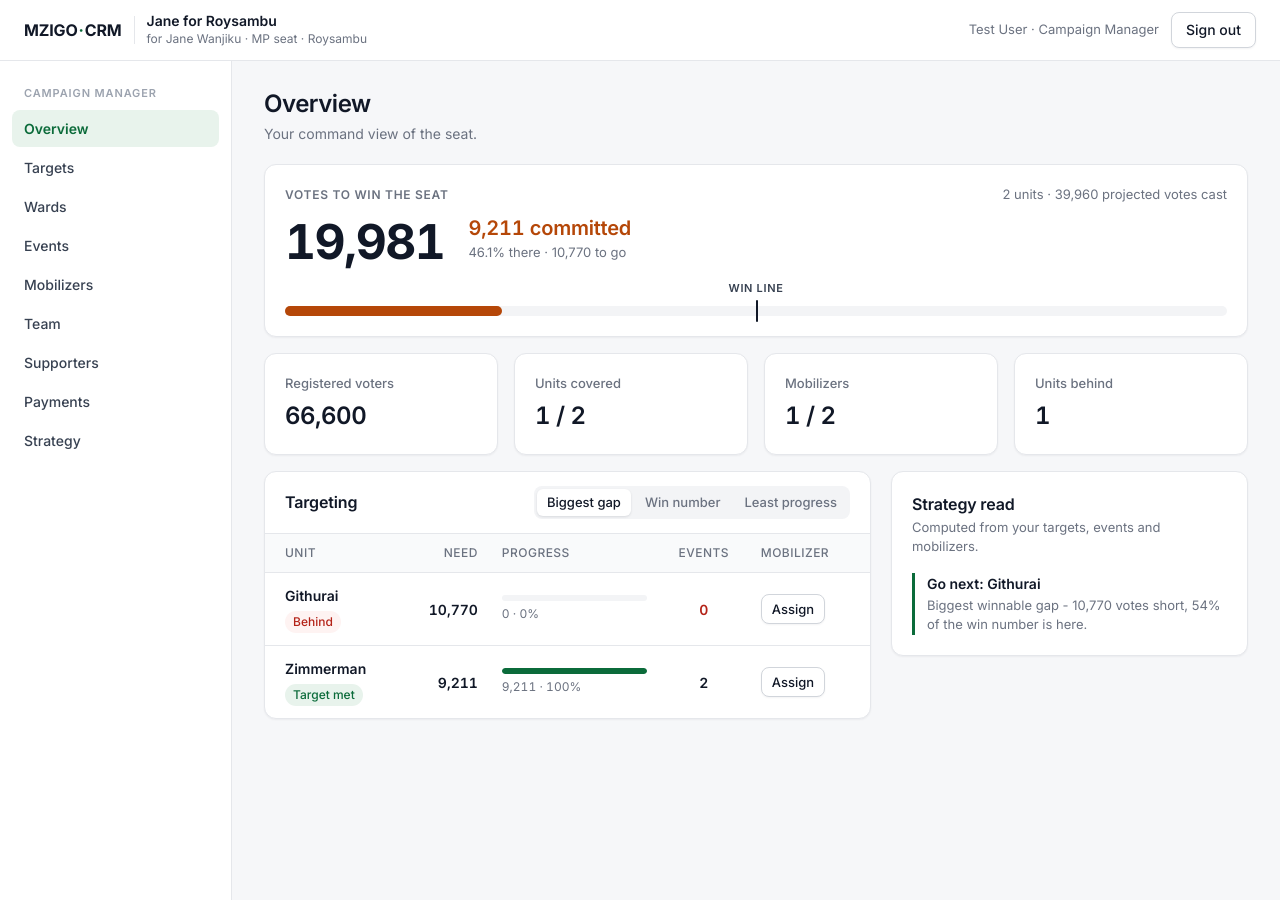
Scenario: the turnout slider › saves only the last number when let go, and says it saved
Expected: the button "Overview" is shown, [12,110,219,147]
Click the button "Targets": (116, 167) [12,149,219,186]
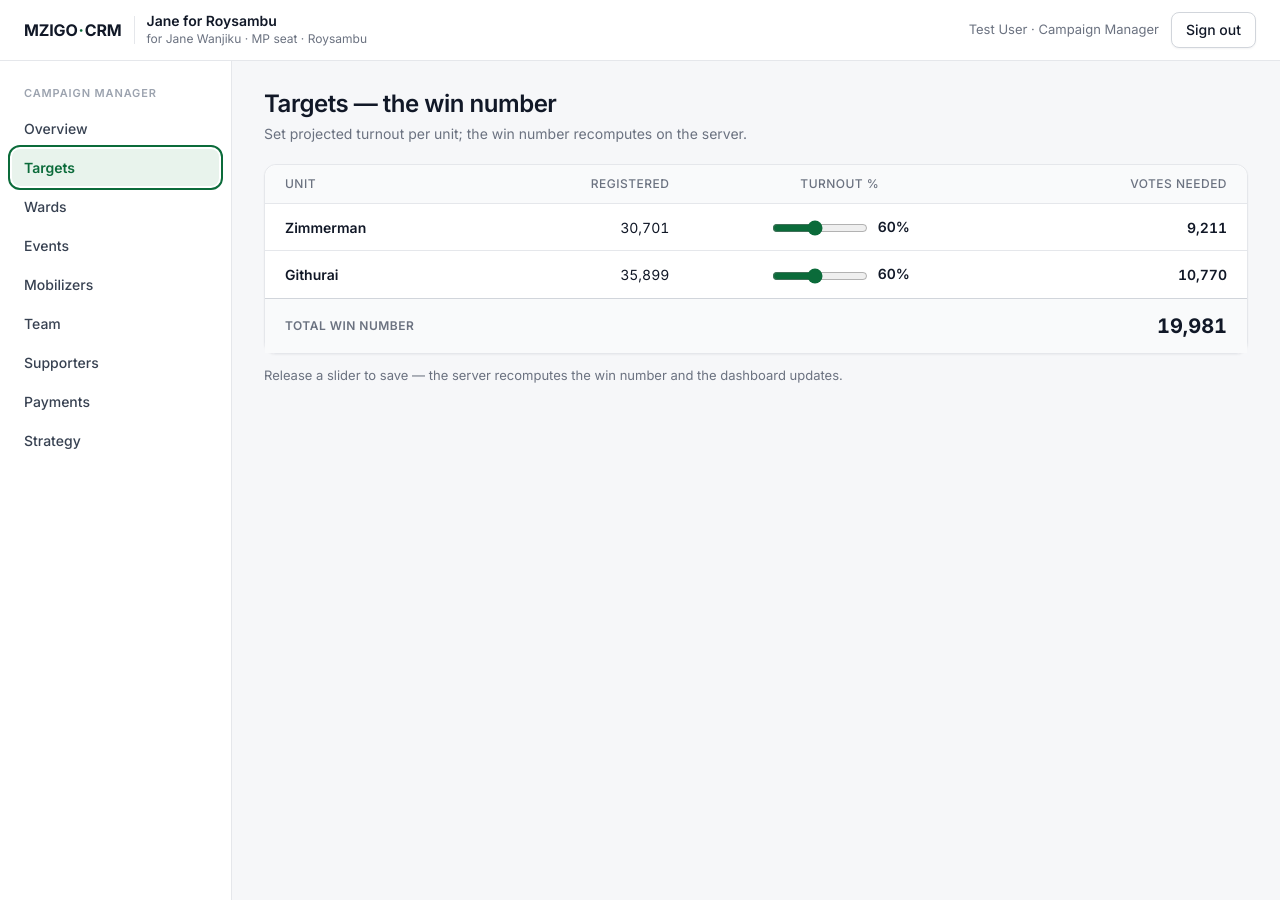
Expected: the text "Targets — the win number" is shown, [264,89,556,118]
Set the slider named "Turnout for Zimmerman" to "65": (824, 228) [772,220,868,236]
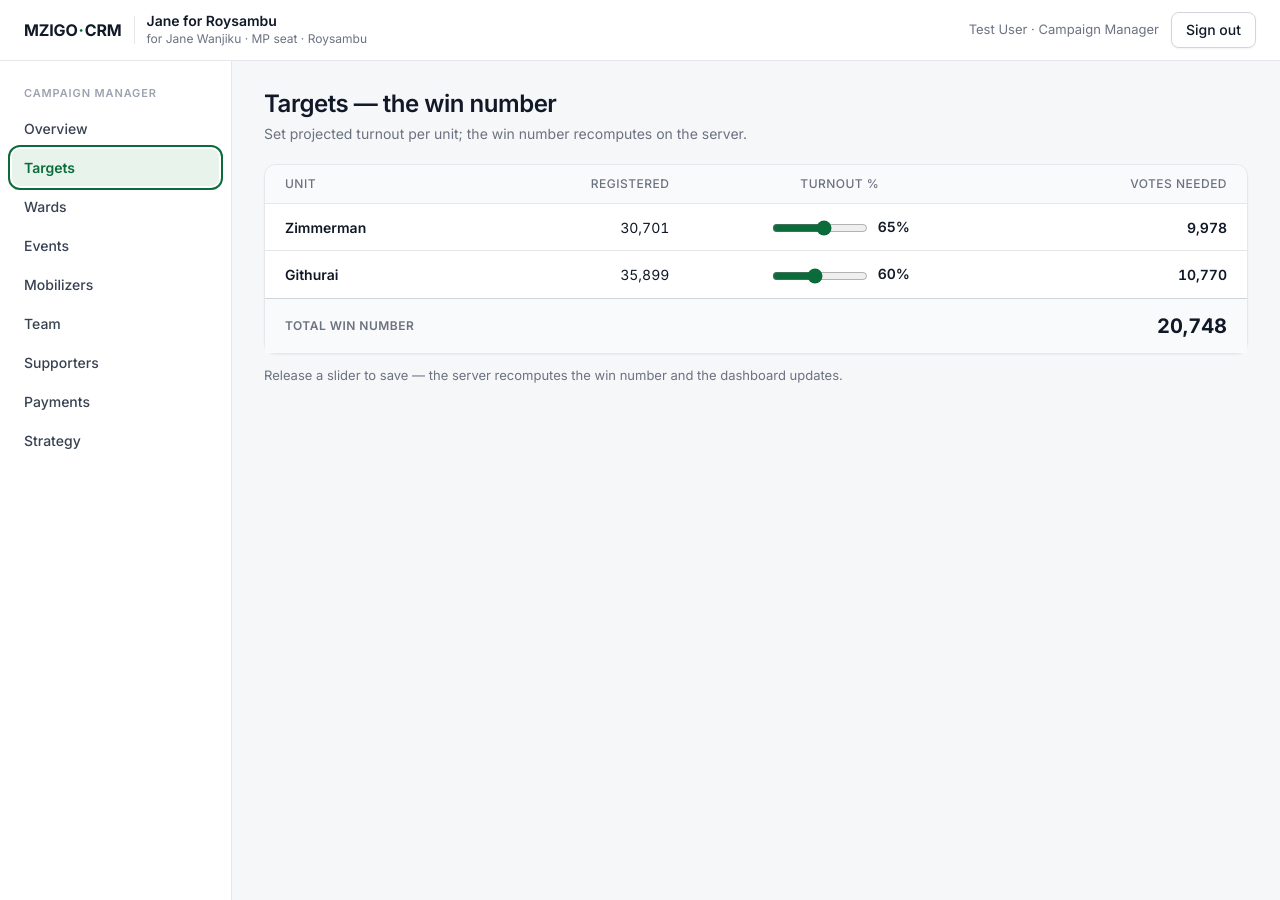
Set the slider named "Turnout for Zimmerman" to "70": (833, 228) [772,220,868,236]
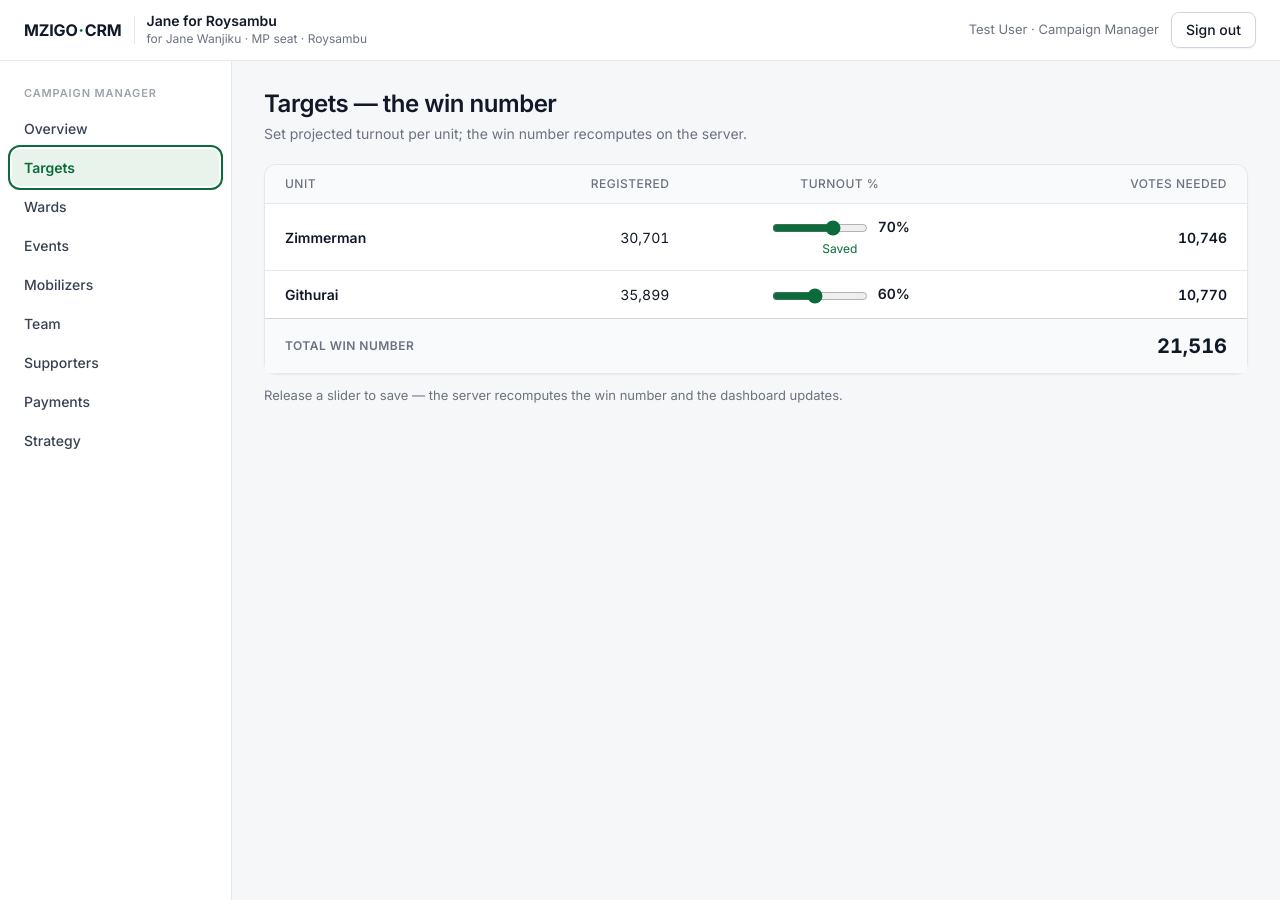
Expected: the text "Saved" is shown, [822,241,857,256]
